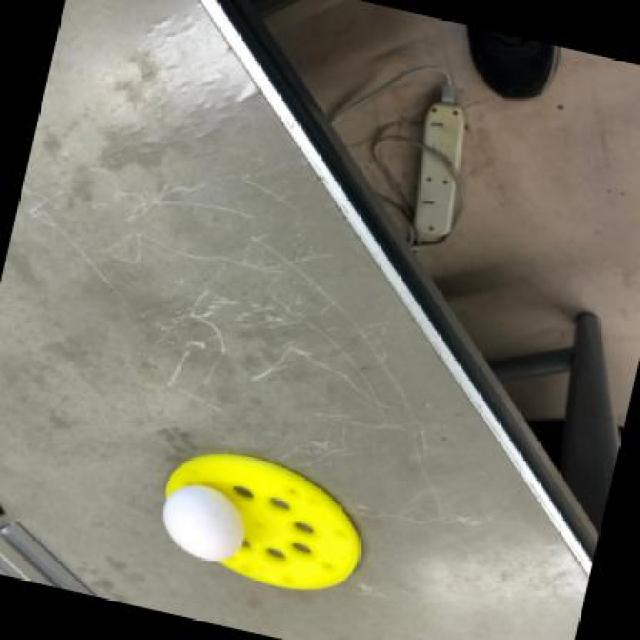egg: (158, 482, 248, 566)
